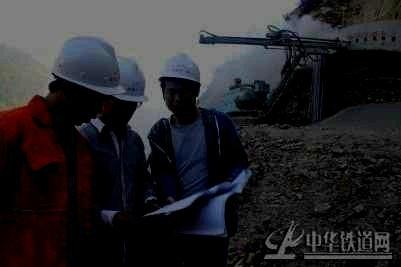helmet: (48, 33, 126, 129), (99, 55, 149, 128), (157, 51, 203, 114)
